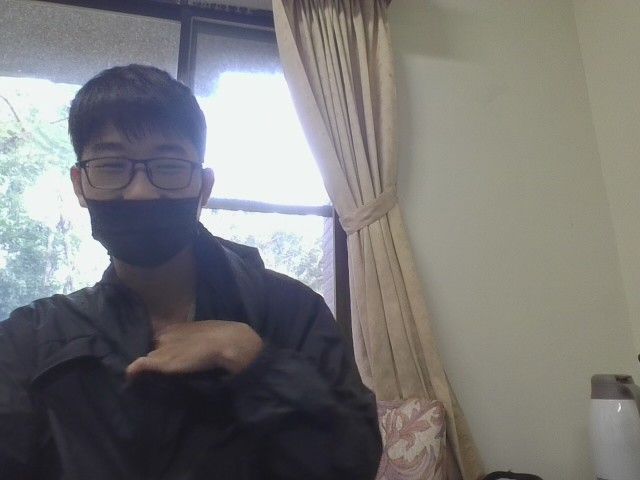No_Helmet: (65, 59, 213, 272)
person: (0, 44, 429, 480)
